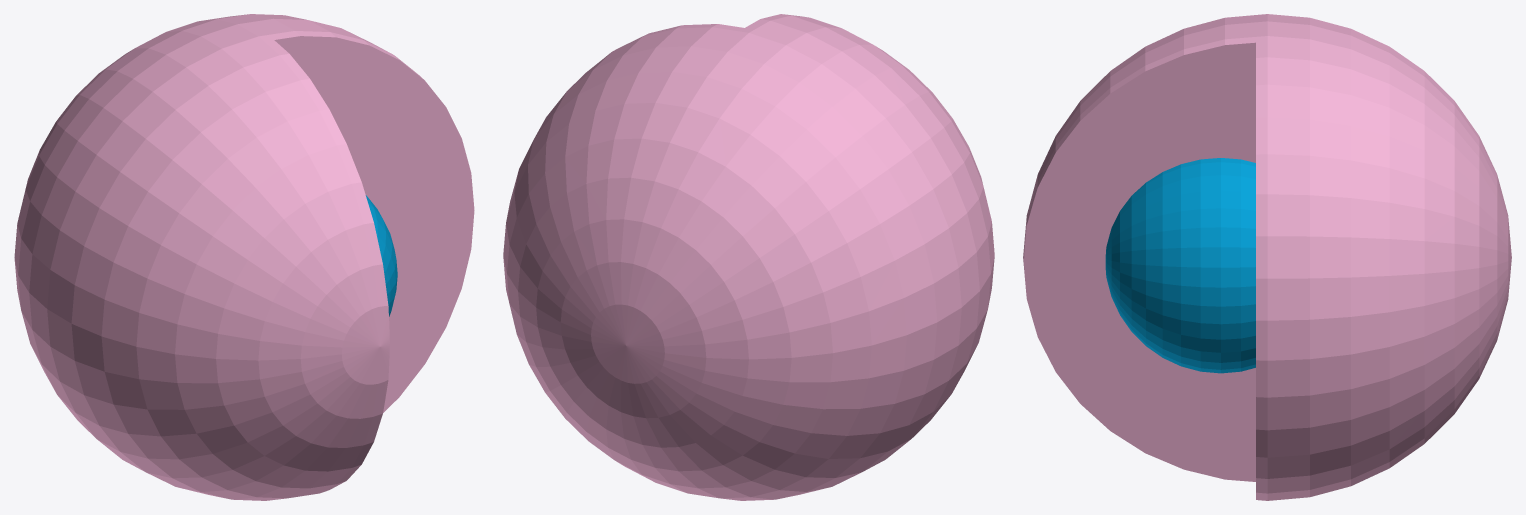
The model's file is tinker.obj.
3 renders of one model, left to right at view 1: azimuth 30°, elevation 25°; view 2: azimuth 150°, elevation 25°; view 3: azimuth 270°, elevation 25°, orthographic.
Parts seen in each view (by area): view 1: group_0_15708628, group_0_40919; view 2: group_0_15708628; view 3: group_0_15708628, group_0_40919.
Part boxes in pixels (x1,y1,x2,y2): group_0_15708628: (14, 14, 474, 500); group_0_40919: (365, 195, 397, 316); group_0_15708628: (503, 14, 994, 500); group_0_15708628: (1023, 14, 1511, 500); group_0_40919: (1105, 158, 1255, 373).
Size of the model in its own units: 42 by 42 by 42.
